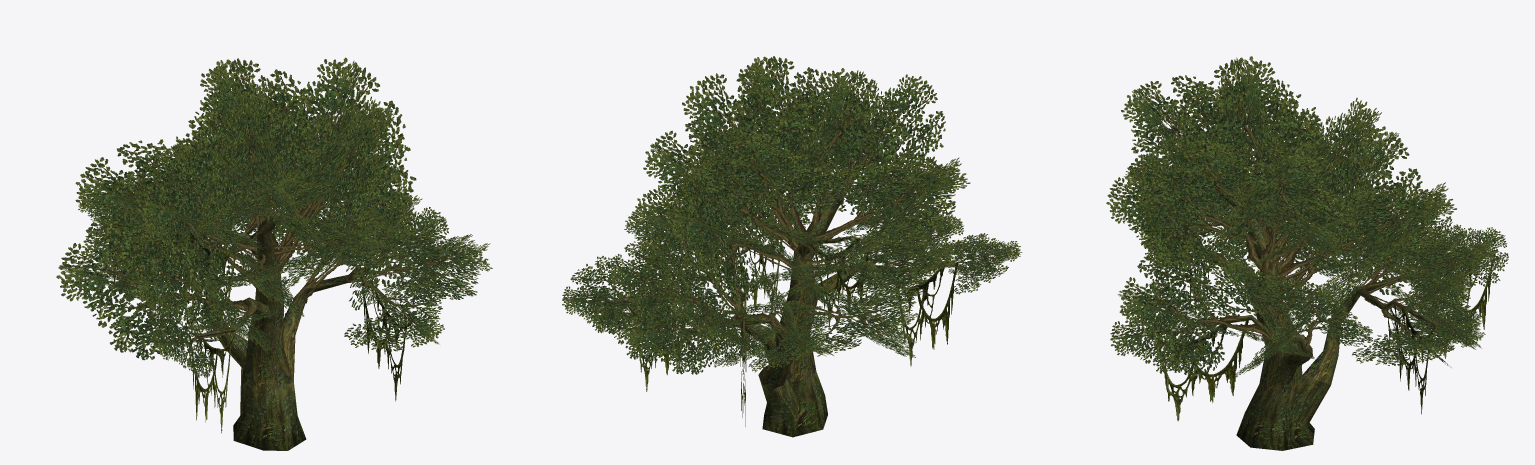
Rendered from swamp_tree01.glb.
The picture shows the model from 3 angles, left to right: view 1: azimuth 30°, elevation 25°; view 2: azimuth 150°, elevation 25°; view 3: azimuth 270°, elevation 25°; orthographic projection. The views are drawn at different scales.
Visible parts, largest first — view 1: C_swamp_tree_01, C_swamp_tree_04, C_swamp_tree_03, C_swamp_tree_05; view 2: C_swamp_tree_01, C_swamp_tree_04, C_swamp_tree_05, C_swamp_tree_03; view 3: C_swamp_tree_01, C_swamp_tree_04, C_swamp_tree_03, C_swamp_tree_05.
Part boxes in pixels (bbox=[...]): C_swamp_tree_01: bbox=[56, 57, 492, 377]; C_swamp_tree_04: bbox=[107, 201, 368, 389]; C_swamp_tree_03: bbox=[233, 367, 306, 450]; C_swamp_tree_05: bbox=[104, 206, 412, 433]; C_swamp_tree_01: bbox=[562, 56, 1022, 374]; C_swamp_tree_04: bbox=[623, 161, 954, 389]; C_swamp_tree_05: bbox=[627, 237, 957, 426]; C_swamp_tree_03: bbox=[759, 371, 827, 437]; C_swamp_tree_01: bbox=[1106, 56, 1508, 377]; C_swamp_tree_04: bbox=[1187, 174, 1498, 395]; C_swamp_tree_03: bbox=[1236, 377, 1330, 450]; C_swamp_tree_05: bbox=[1144, 237, 1494, 421].
Bounding box in the file's own units: 83.01 × 81.63 × 83.06.
Materials: 4 (4 with a texture image).
